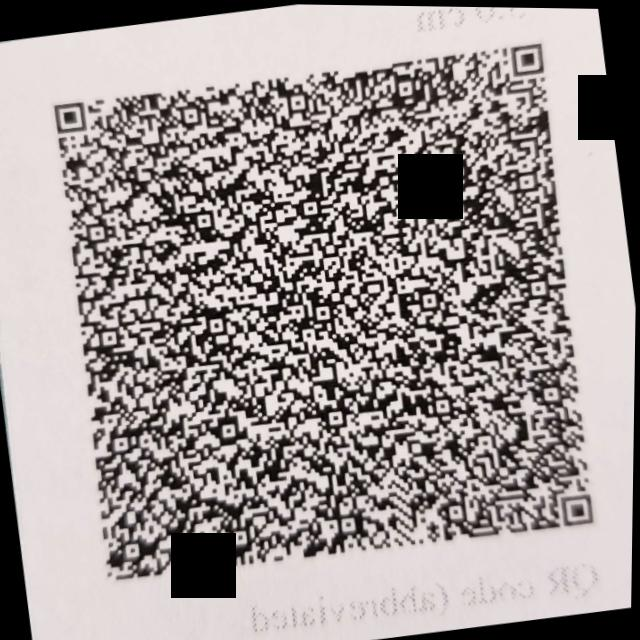QR_CODE: (22, 4, 635, 618)
